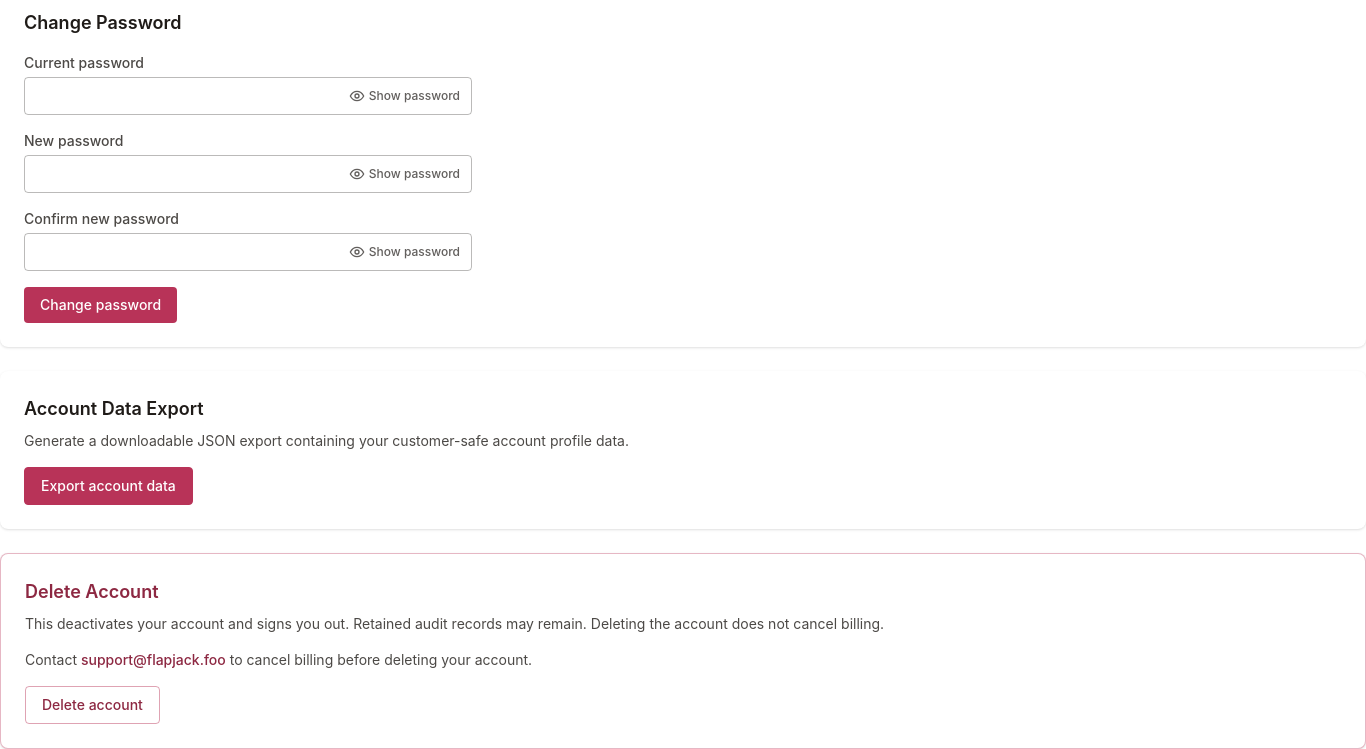
Test case: Account page › toggles delete-account password while preserving submit gating state
This screenshot has width=1366, height=749.
(page scrolled)
Click the button with test id "delete-account-open": (92, 705) [25,686,160,724]
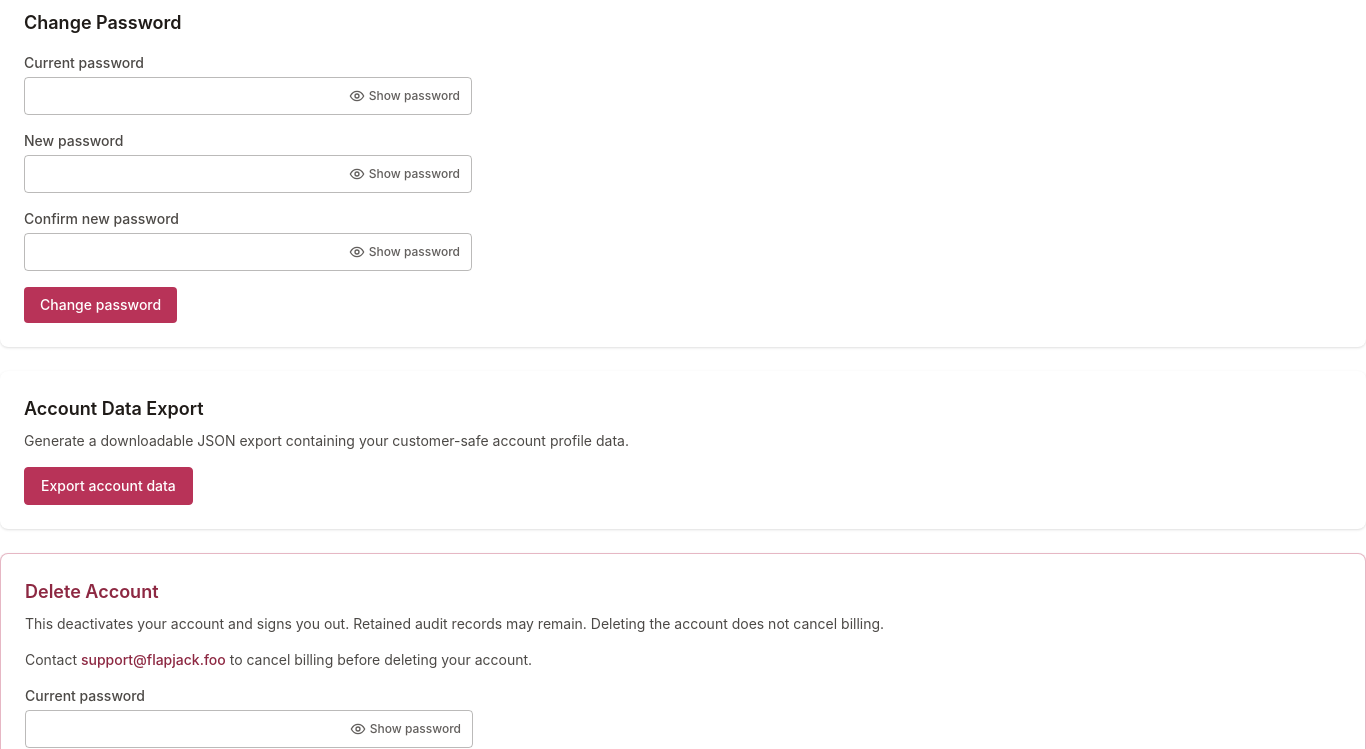
In the password field with test id "delete-account-password": (249, 729) [25,710,473,748], type "current-password-123"
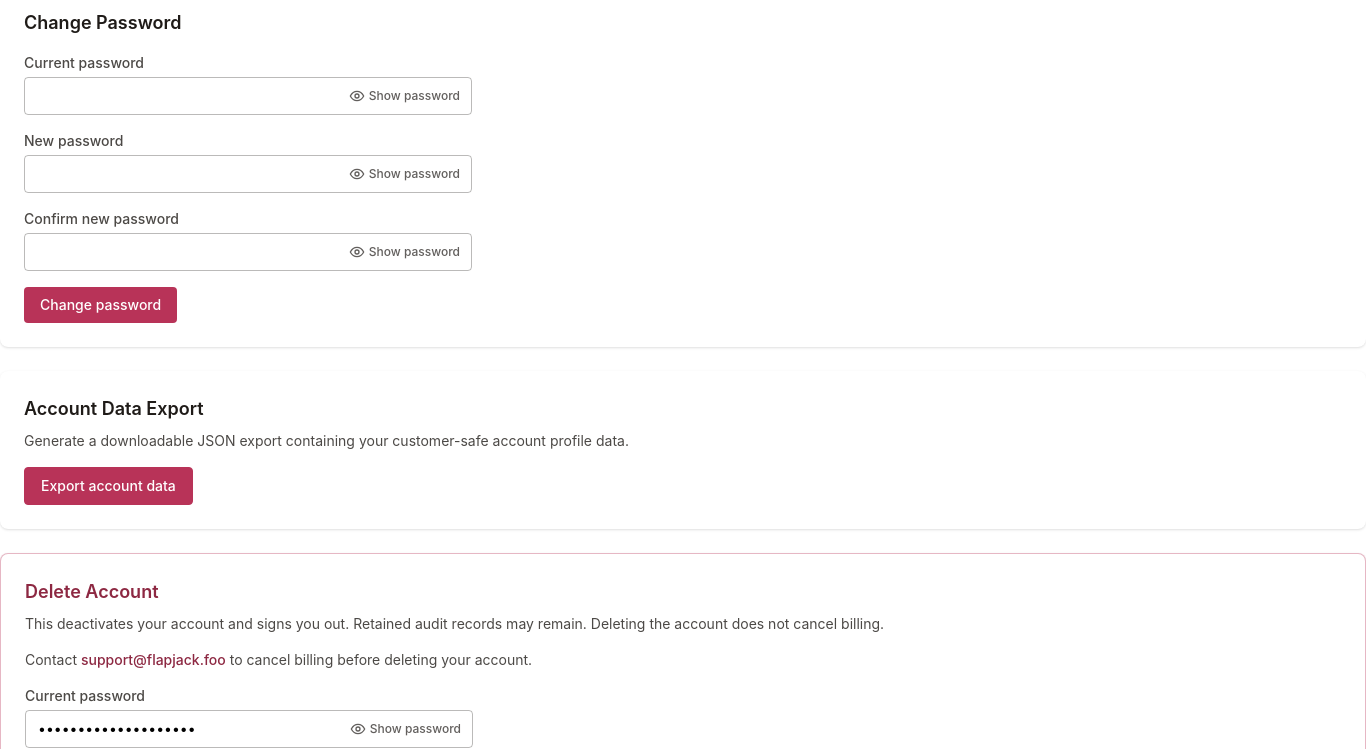
Click the button "Show password" below "support@flapjack.foo": (405, 729) [342,714,469,744]
(page scrolled)
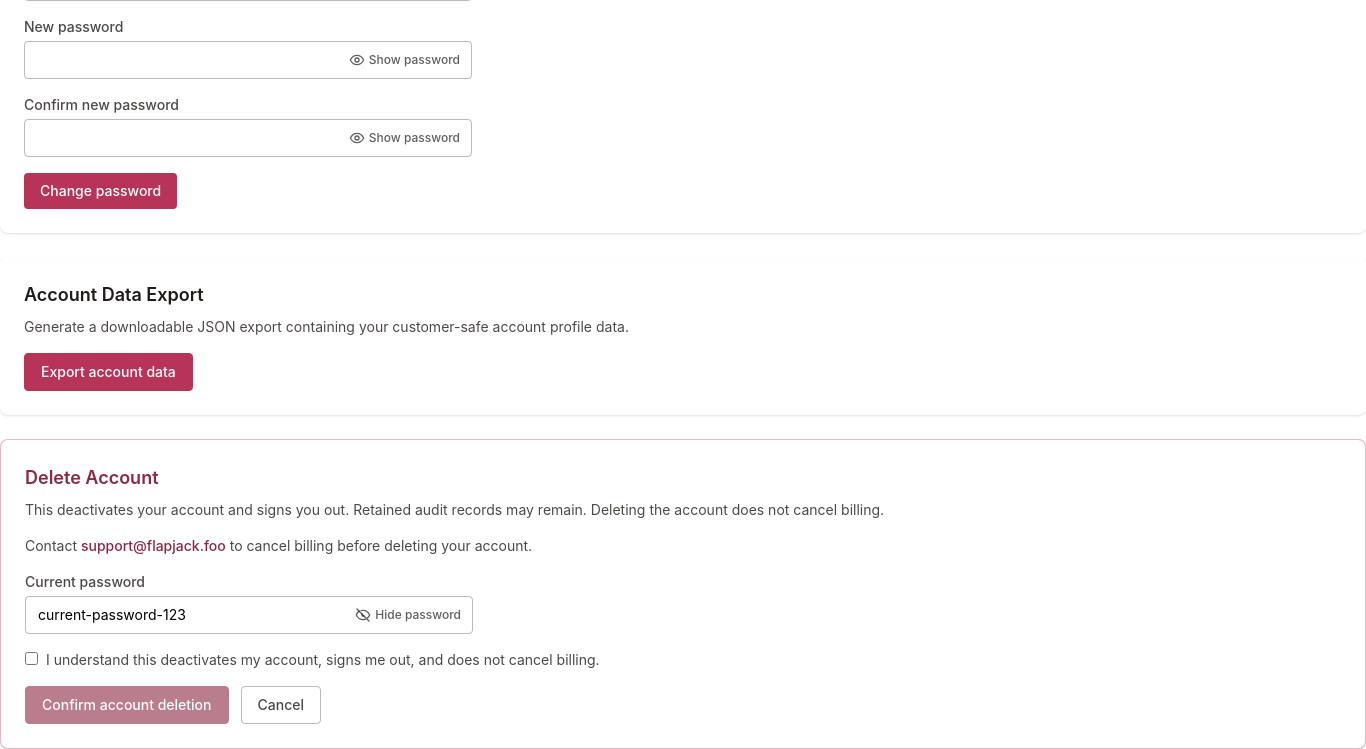
Check: the button with test id "delete-account-submit" is disabled, box [25,686,228,724]
Check: the field with test id "delete-account-password" shows its text, box [25,596,473,634]
Click the checkbox with test id "delete-account-confirm": (32, 658) [25,652,38,665]
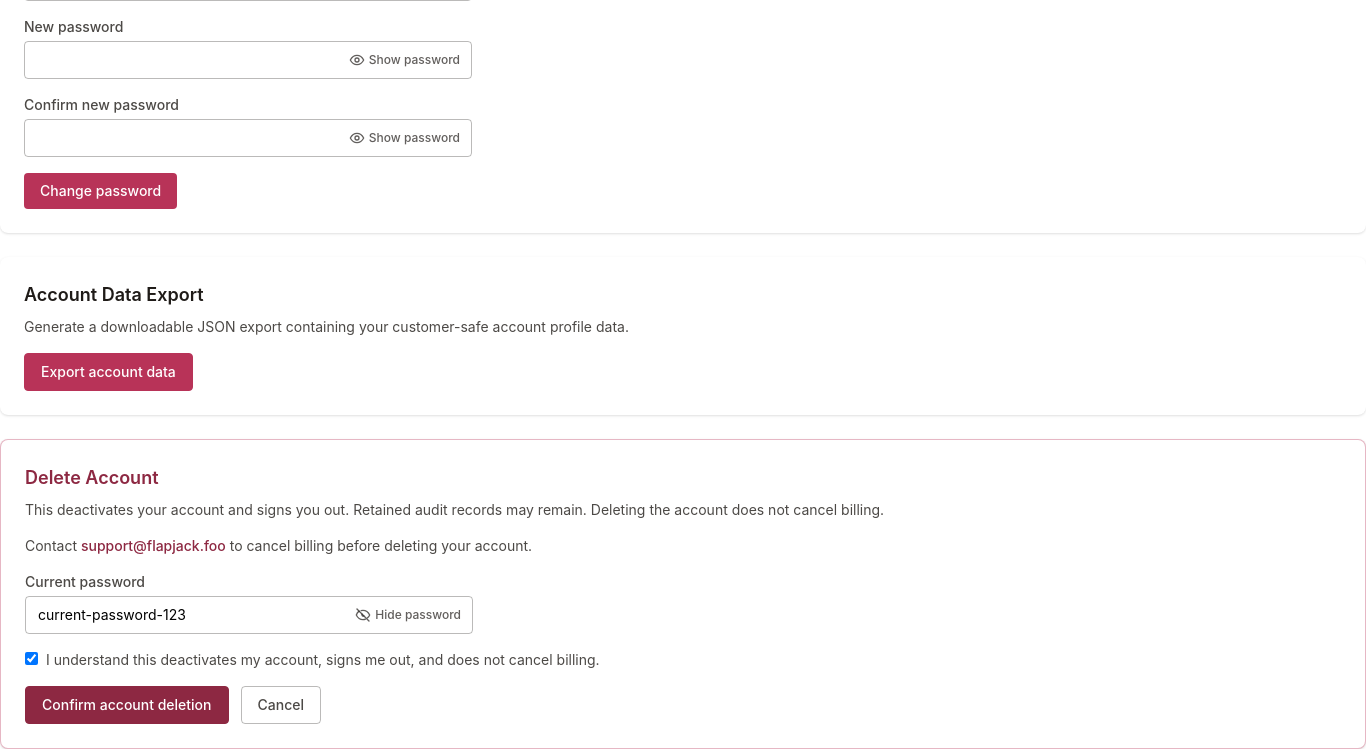
Check: the button with test id "delete-account-submit" is enabled, box [25,686,228,724]
